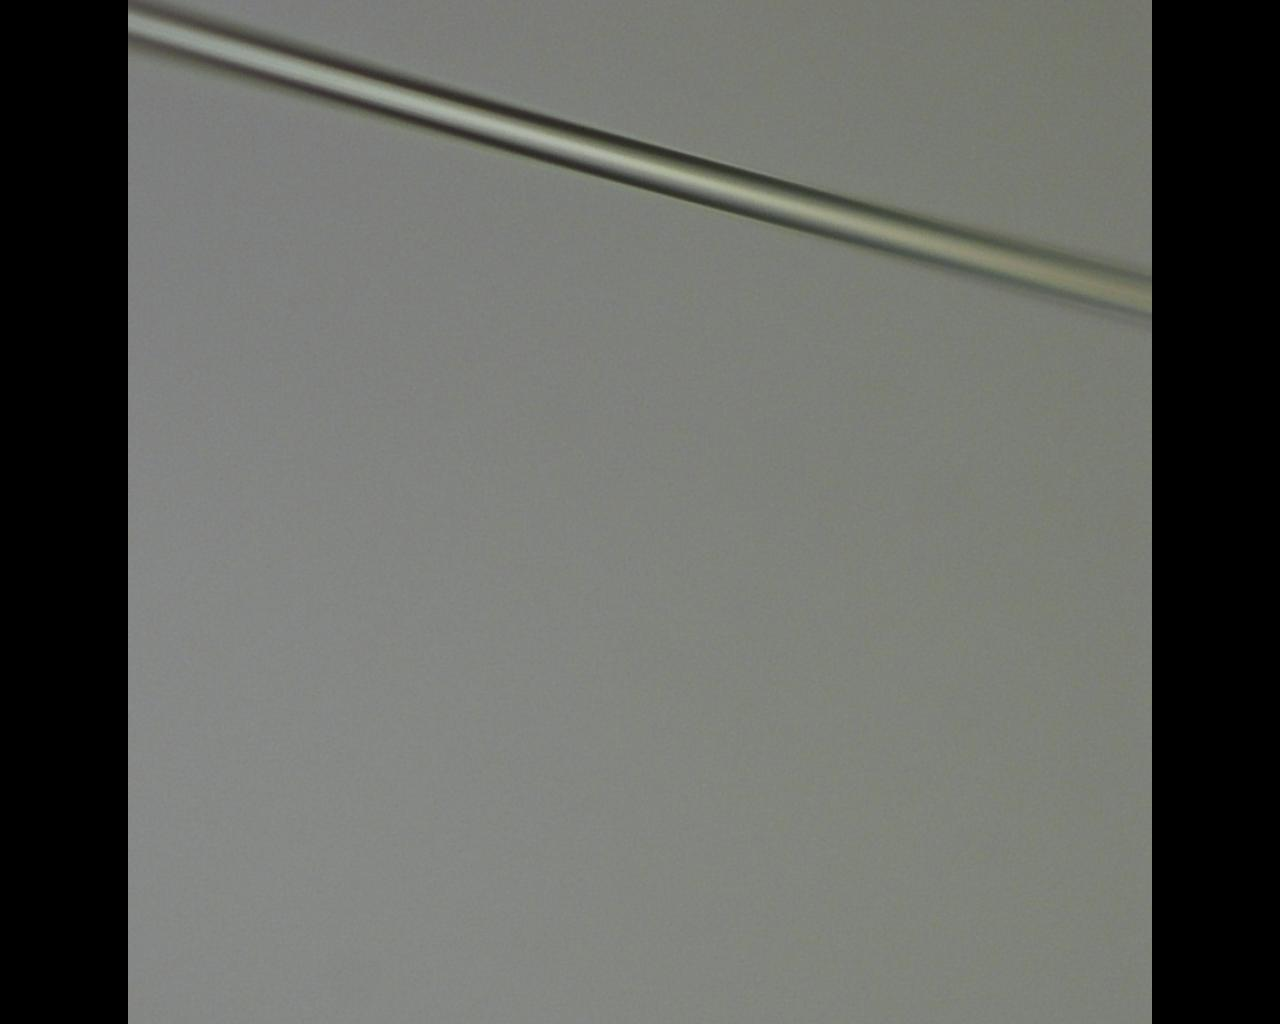fiber: (665, 0, 1280, 327), (665, 563, 1280, 881), (0, 364, 665, 453), (367, 879, 529, 1024)
